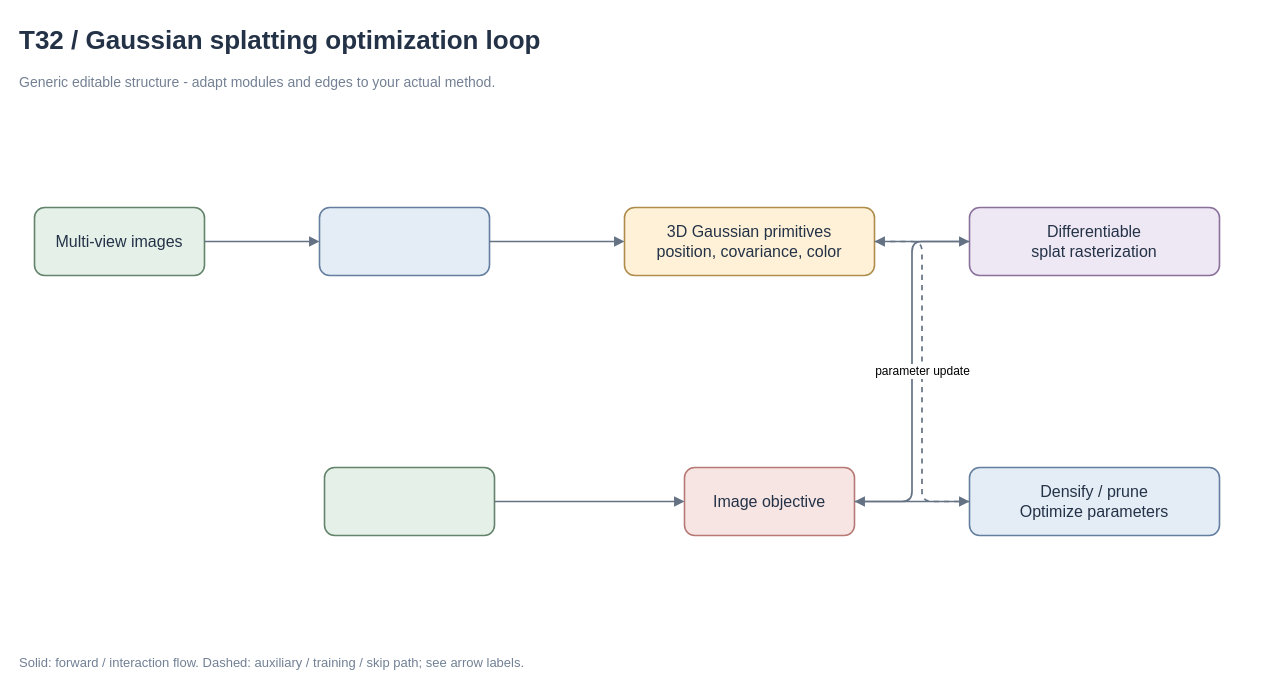
Image size: 1264x695. Some labels were removed from this diagram. Here are the shapes that lost their labels. From the top down, the box of each, then its label:
(318, 206, 490, 276): SfM initialization
(323, 466, 495, 536): Target view
